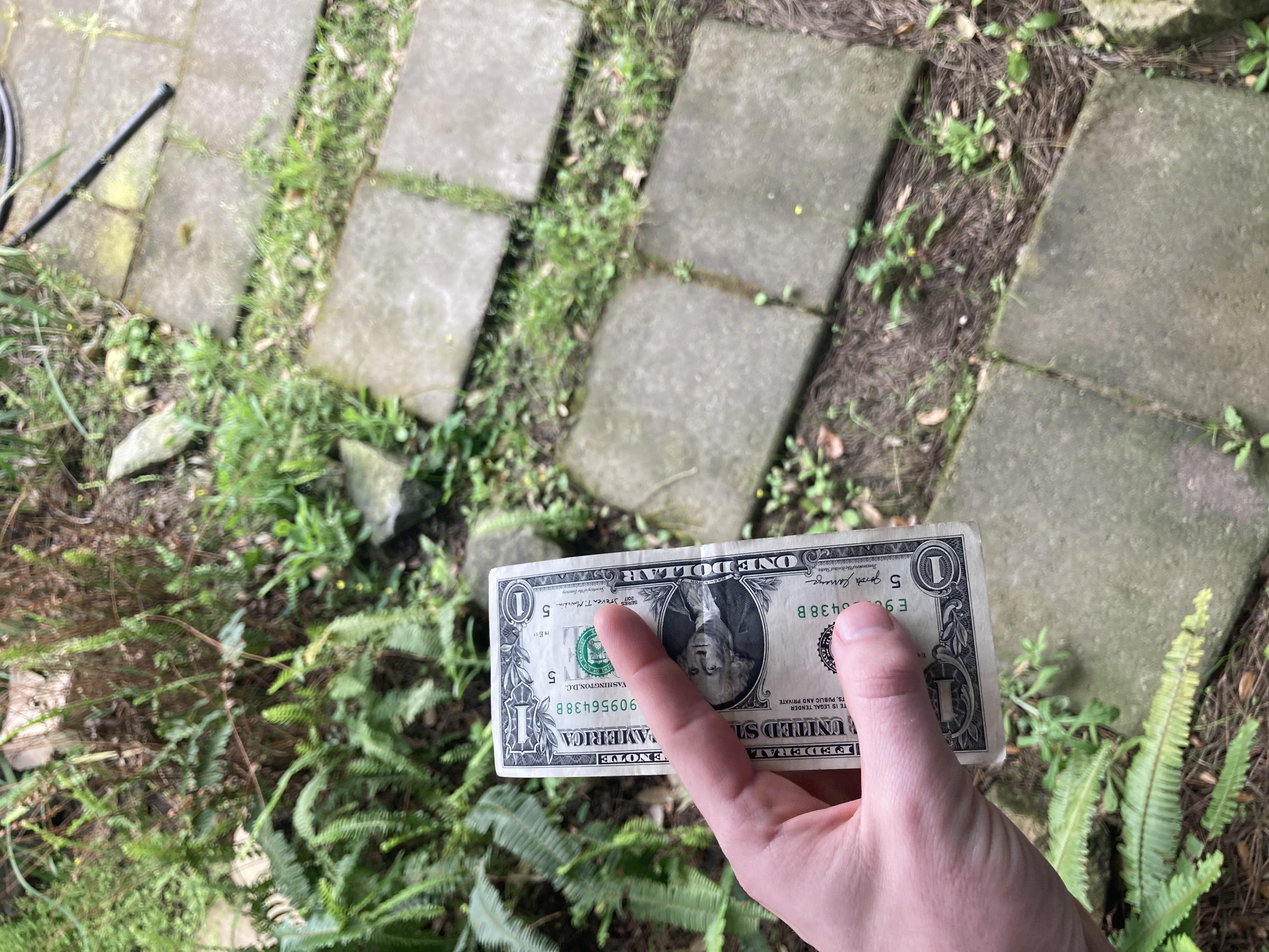one-front: (230, 365, 577, 754)
